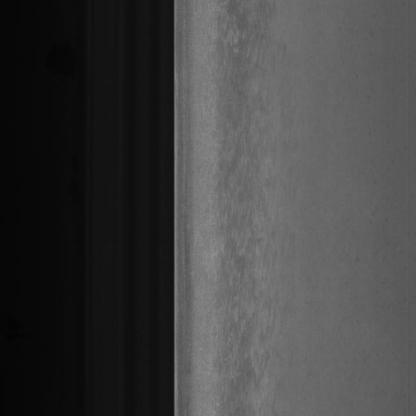silk_spot: (211, 31, 278, 405)
